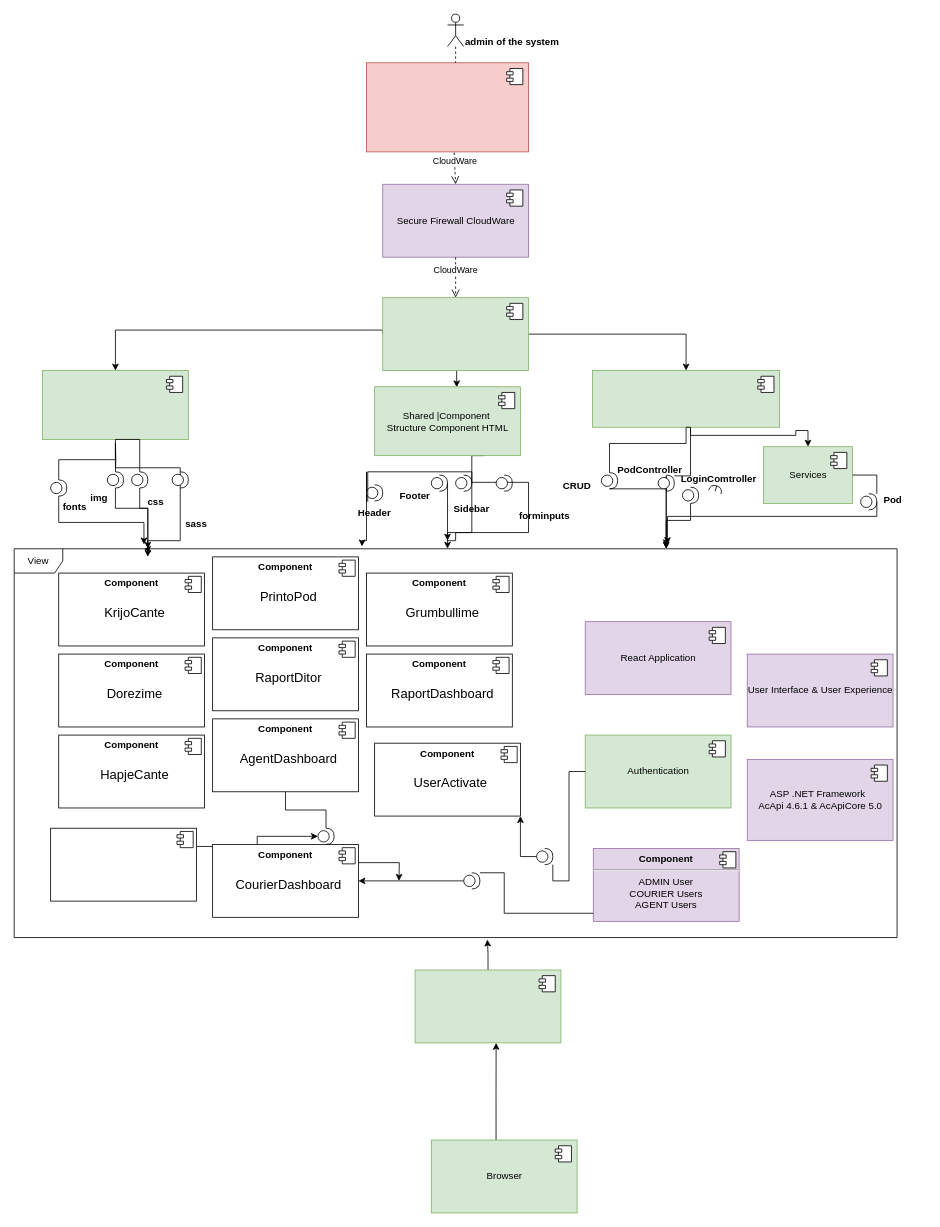
This 940x1227 diagram has some shape labels left out. The centre of each missing label's shape, as x and y in pixels:
"Assets Frontend-Component" belongs at point (115, 404).
"Component AdminDashboard" belongs at point (123, 864).
"Controllers Create Read Update Delete -Component" belongs at point (686, 398).
"Database Microsoft AZURE" belongs at point (455, 334).
"Server" belongs at point (487, 1006).
"Web Application" belongs at point (447, 107).
